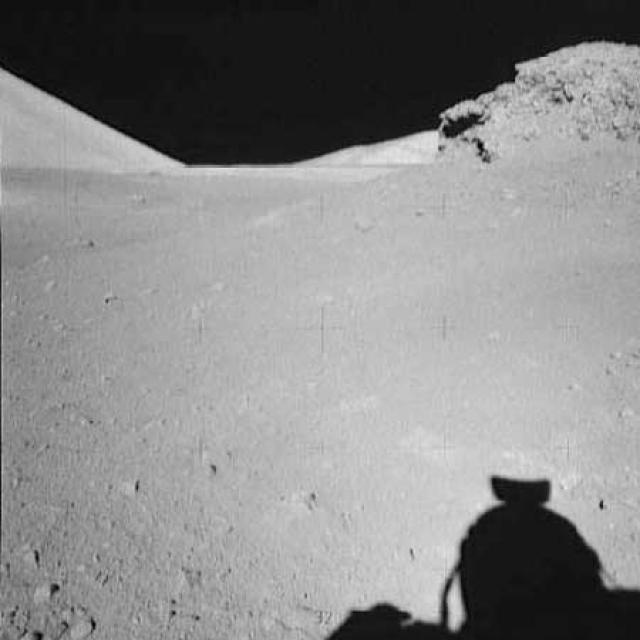rock: (436, 22, 638, 176)
